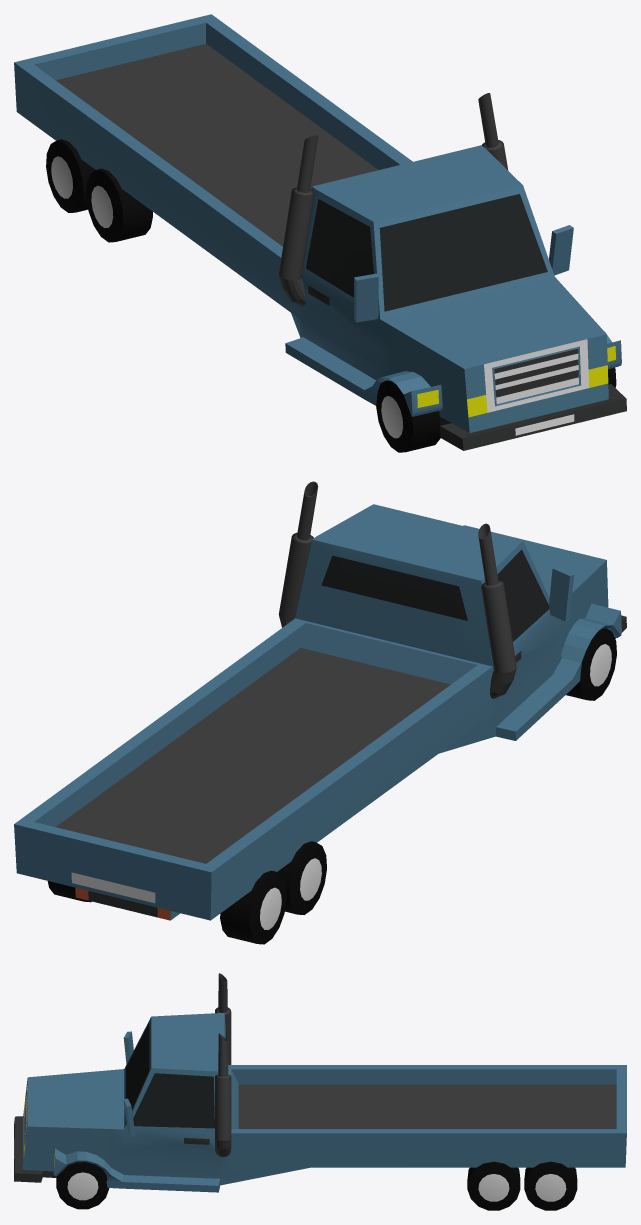
File: Truck1.fbx
3 renders of one model, top to bottom at view 1: azimuth 30°, elevation 25°; view 2: azimuth 150°, elevation 25°; view 3: azimuth 270°, elevation 25°, orthographic. The views are drawn at different scales.
Parts seen in each view (by area): view 1: Body6, pCylinder2, WheelRL6, WheelRL4, WheelRL2, pCube3, pCylinder1, pCube2; view 2: Body6, pCylinder2, WheelRL2, WheelRL6, pCylinder1, WheelRL4, pCube3; view 3: Body6, WheelRL1, WheelRL5, WheelRL3, pCylinder1, pCylinder2.
Part boxes in pixels (x1=…): Body6: x1=14, y1=14, x2=626, y2=450; pCylinder2: x1=279, y1=135, x2=318, y2=306; WheelRL6: x1=86, y1=168, x2=152, y2=242; WheelRL4: x1=376, y1=380, x2=440, y2=452; WheelRL2: x1=46, y1=139, x2=95, y2=212; pCube3: x1=354, y1=273, x2=378, y2=322; pCylinder1: x1=478, y1=93, x2=508, y2=170; pCube2: x1=549, y1=225, x2=573, y2=275; Body6: x1=14, y1=504, x2=626, y2=920; pCylinder2: x1=478, y1=523, x2=516, y2=698; WheelRL2: x1=220, y1=870, x2=286, y2=944; WheelRL6: x1=277, y1=841, x2=326, y2=914; pCylinder1: x1=278, y1=481, x2=318, y2=627; WheelRL4: x1=566, y1=628, x2=616, y2=700; pCube3: x1=549, y1=567, x2=574, y2=621; Body6: x1=14, y1=1013, x2=626, y2=1192; WheelRL1: x1=524, y1=1161, x2=577, y2=1210; WheelRL5: x1=467, y1=1161, x2=520, y2=1210; WheelRL3: x1=56, y1=1162, x2=109, y2=1209; pCylinder1: x1=215, y1=1033, x2=231, y2=1157; pCylinder2: x1=215, y1=973, x2=231, y2=1064.
Size of the model in its own units: 3.69 by 3.64 by 11.76.
